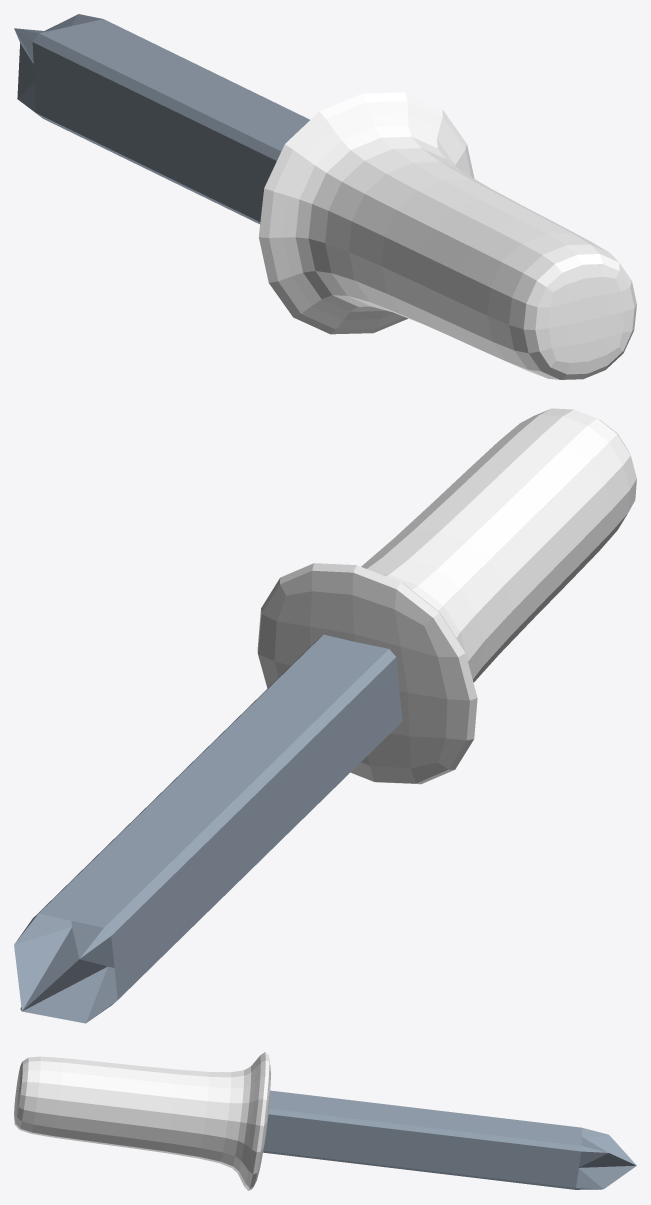
Rendered from screwdriver-1.fbx.
3 views of the same model, one above another, from view 1: azimuth 30°, elevation 25°; view 2: azimuth 150°, elevation 25°; view 3: azimuth 270°, elevation 25° (orthographic). The views are drawn at different scales.
Parts seen in each view (by area): view 1: Cube.235; view 2: Cube.235; view 3: Cube.235.
Part boxes in pixels (left/top/right/bottom): Cube.235: left=14, top=14, right=636, bottom=379; Cube.235: left=14, top=408, right=636, bottom=1023; Cube.235: left=14, top=1052, right=636, bottom=1190.
Bounding box in the file's own units: 7.82 × 7.75 × 35.13.
